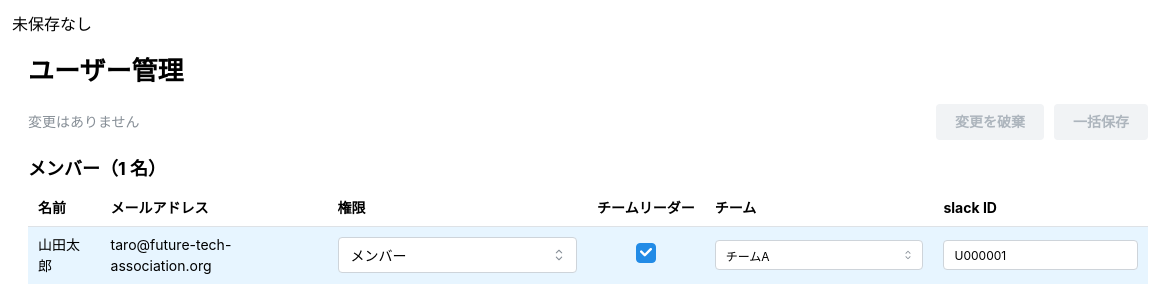
Test: 管理画面の未保存の変更の共有（DashboardUnsavedChangesProvider） › UserList が未保存のまま画面から外れたら（アンマウント）解除する
Replace the text in the field named "山田太郎の Slack ID" with "U999" at (1041, 255), box top-left (944, 240), bottom-right (1138, 270)
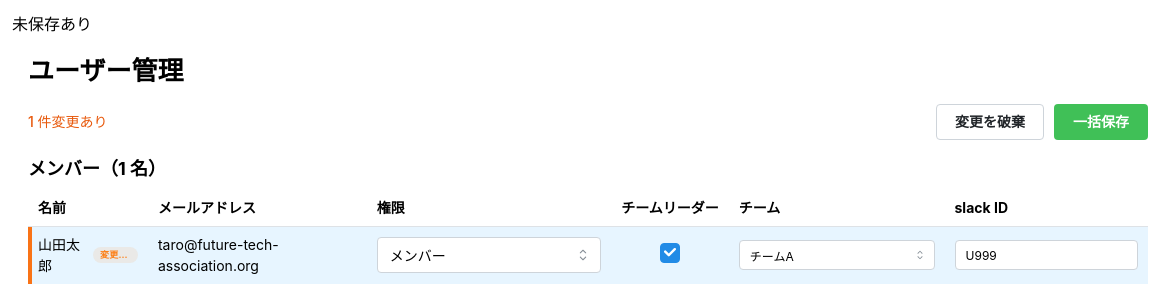
Now the text with test id "probe" reads "未保存あり", box top-left (12, 14), bottom-right (92, 34)
